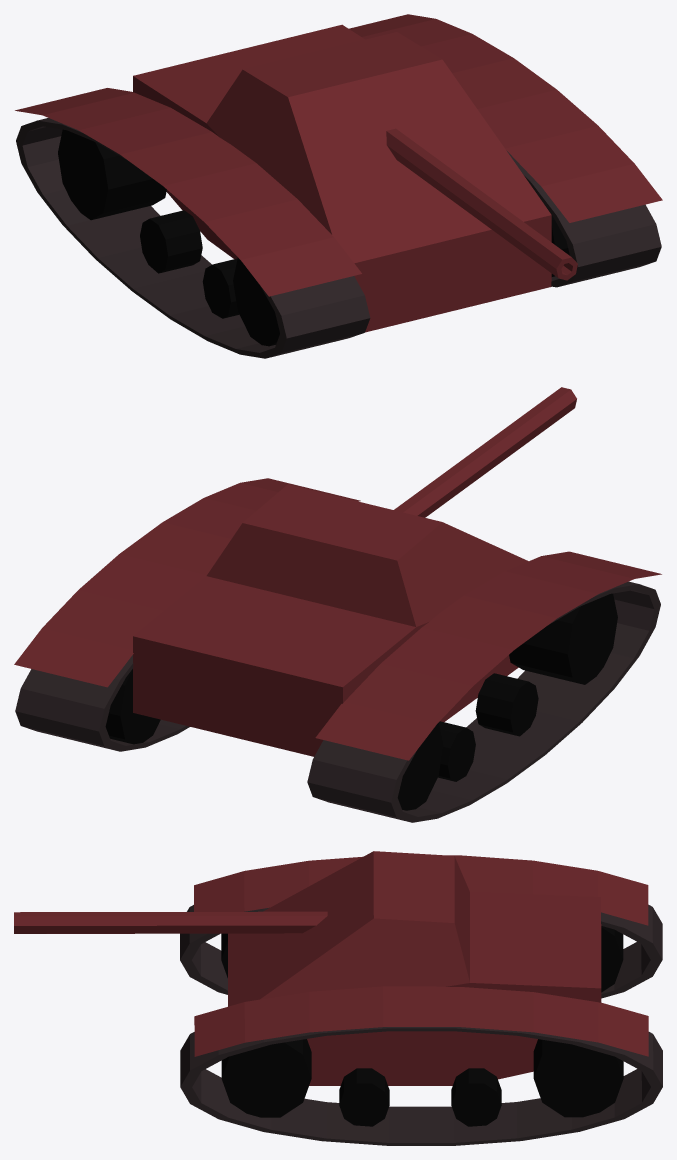
The model's file is tank_red.glb.
3 views of the same model, one above another, from view 1: azimuth 30°, elevation 25°; view 2: azimuth 150°, elevation 25°; view 3: azimuth 270°, elevation 25° (orthographic). The views are drawn at different scales.
Visible parts, largest first — view 1: Cube.001, Cylinder.002, Cylinder.001, Cylinder.011, Cylinder.005, Cylinder.010, Cylinder.004, Cylinder.003, Cylinder.012, Cylinder.009; view 2: Cube.001, Cylinder.002, Cylinder.001, Cylinder.011, Cylinder.005, Cylinder.012, Cylinder.004, Cylinder.009, Cylinder.010, Cylinder.006, Cylinder.003; view 3: Cube.001, Cylinder.001, Cylinder.005, Cylinder.002, Cylinder.004, Cylinder, Cylinder.006, Cylinder.011, Cylinder.008, Cylinder.007, Cylinder.010.
Boxes of the visible parts, x1,y1,x2,y2 form: Cube.001: (133, 24, 551, 332); Cylinder.002: (15, 88, 361, 296); Cylinder.001: (349, 14, 662, 222); Cylinder.011: (16, 118, 370, 358); Cylinder.005: (506, 150, 661, 287); Cylinder.010: (58, 129, 166, 220); Cylinder.004: (386, 128, 577, 280); Cylinder.003: (140, 210, 202, 273); Cylinder.012: (233, 257, 279, 346); Cylinder.009: (202, 258, 239, 318); Cube.001: (133, 484, 528, 756); Cylinder.002: (315, 551, 661, 760); Cylinder.001: (14, 478, 360, 687); Cylinder.011: (307, 581, 660, 822); Cylinder.005: (15, 655, 189, 751); Cylinder.012: (509, 593, 617, 684); Cylinder.004: (394, 387, 576, 517); Cylinder.009: (475, 673, 538, 736); Cylinder.010: (397, 723, 443, 810); Cylinder.006: (105, 669, 160, 744); Cylinder.003: (438, 721, 475, 781); Cube.001: (228, 851, 601, 1085); Cylinder.001: (194, 986, 648, 1056); Cylinder.005: (180, 1027, 662, 1145); Cylinder.002: (194, 855, 648, 925); Cylinder.004: (14, 911, 327, 933); Cylinder: (221, 1039, 311, 1117); Cylinder.006: (533, 1039, 623, 1117); Cylinder.011: (180, 904, 662, 998); Cylinder.008: (451, 1068, 501, 1126); Cylinder.007: (339, 1068, 389, 1126); Cylinder.010: (601, 926, 623, 992).
Size of the model in its own units: 0.9959 by 0.4838 by 1.59.
